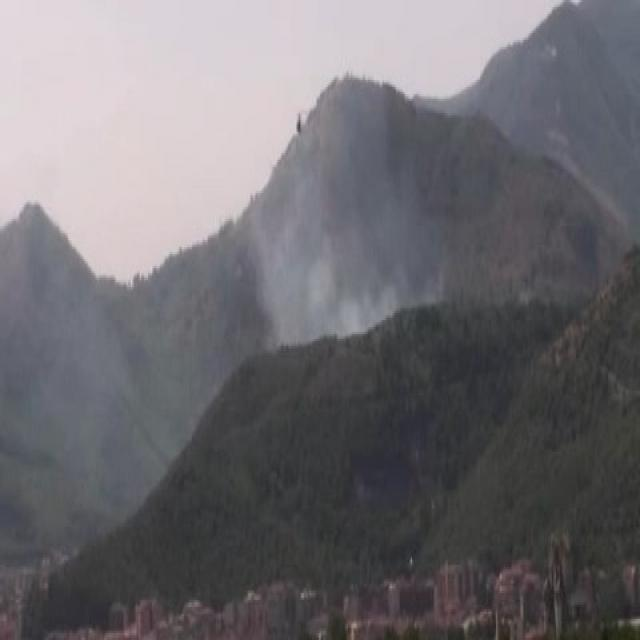smoke: (259, 124, 426, 340)
